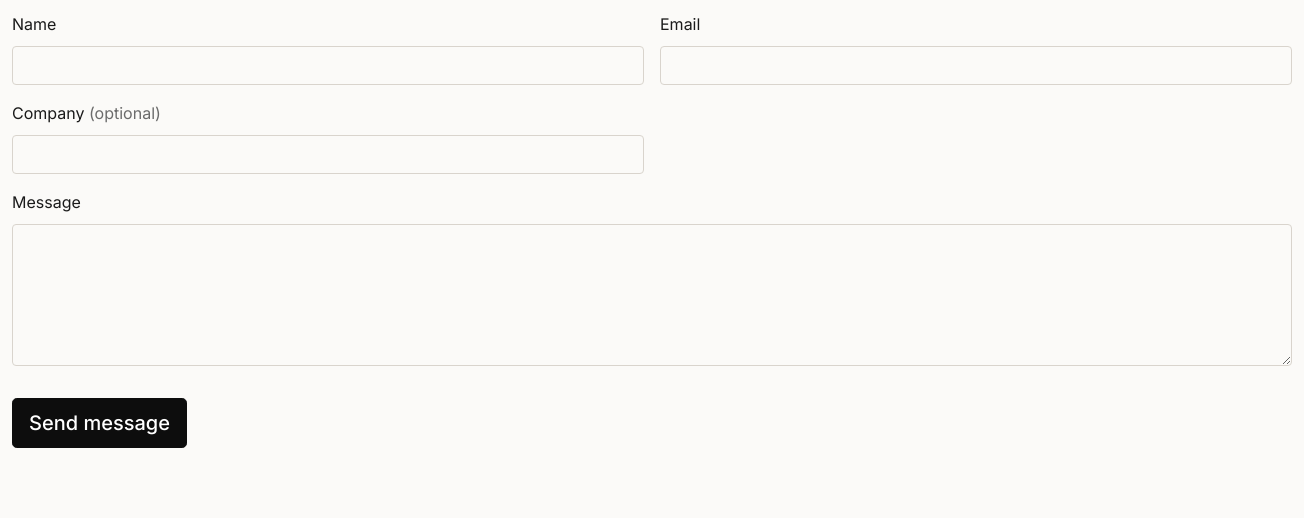
Test case: <ContactForm /> › shows validation errors when submitting empty fields
The image size is (1304, 518).
Click the button "Send message".
click(100, 423)  # box [12, 398, 187, 448]
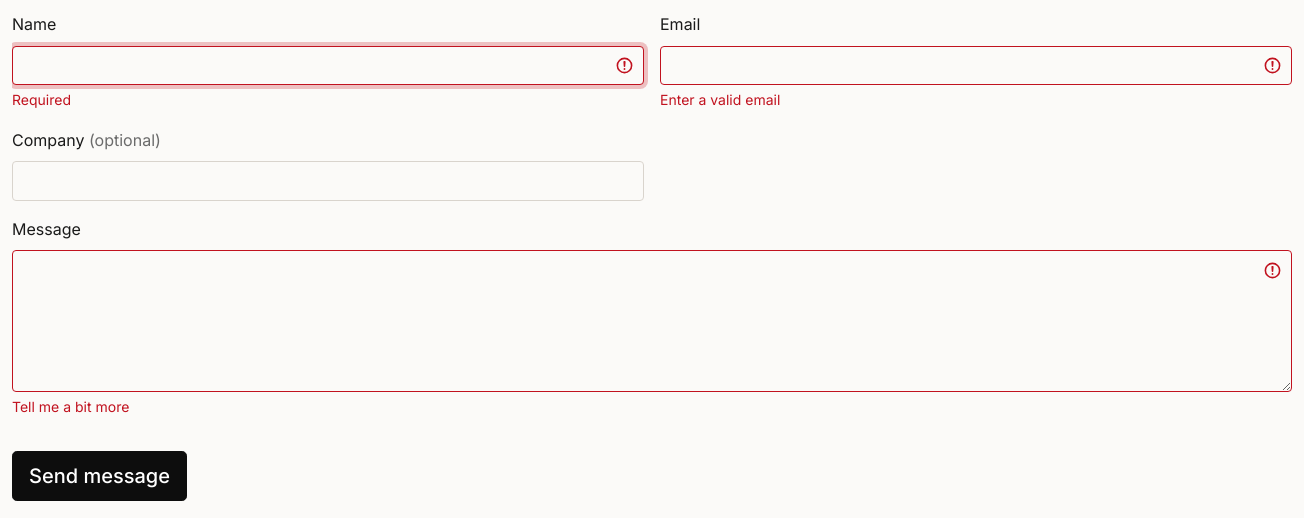
Result: the text "Required" is shown at [12, 91, 71, 108]
Result: the text "Enter a valid email" is shown at [660, 91, 780, 108]
Result: the text "Tell me a bit more" is shown at [12, 398, 129, 415]
